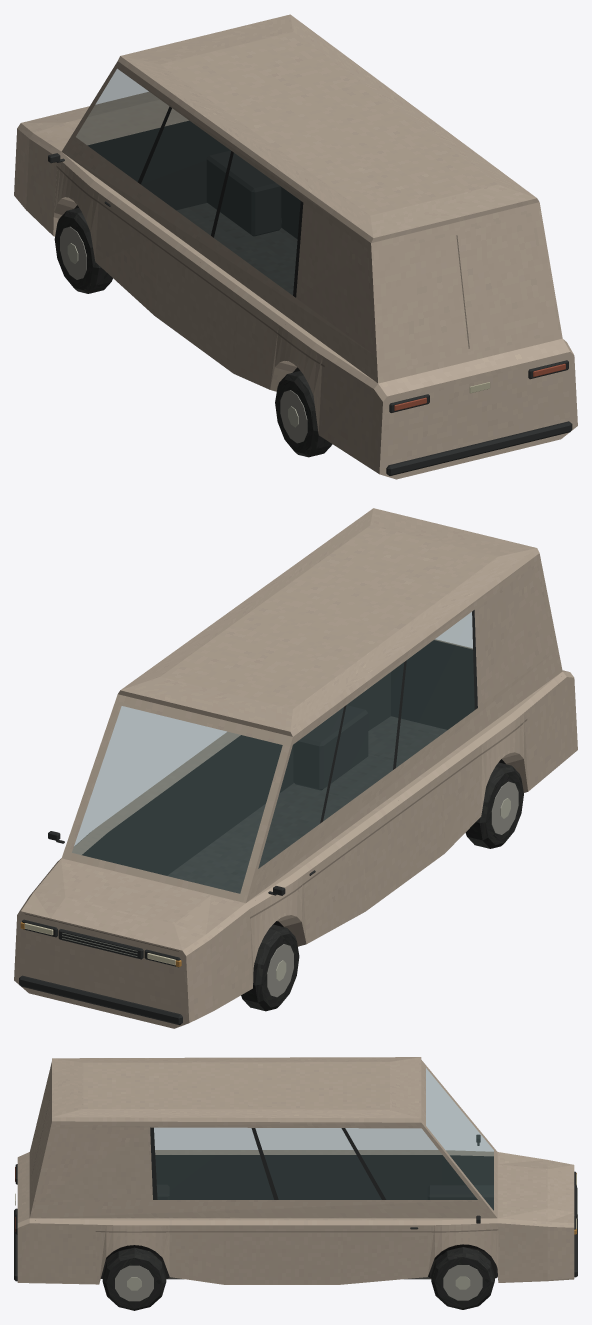
The model's file is vehicle_rv.glb.
3 views of the same model, one above another, from view 1: azimuth 30°, elevation 25°; view 2: azimuth 150°, elevation 25°; view 3: azimuth 270°, elevation 25° (orthographic). The views are drawn at different scales.
Visible parts, largest first — view 1: closed_body, roof_body, glazing; view 2: closed_body, glazing, roof_body; view 3: closed_body, glazing, roof_body.
Part boxes in pixels (x1,y1,x2,y2): closed_body: [14, 61, 577, 479]; roof_body: [118, 14, 539, 242]; glazing: [76, 69, 300, 295]; closed_body: [14, 553, 577, 1028]; glazing: [72, 612, 474, 893]; roof_body: [118, 508, 539, 736]; closed_body: [14, 1060, 577, 1310]; glazing: [154, 1068, 493, 1210]; roof_body: [52, 1057, 421, 1122].
Bounding box in the file's own units: 2.65 × 2.75 × 7.45.
2 materials, 2 textured.
